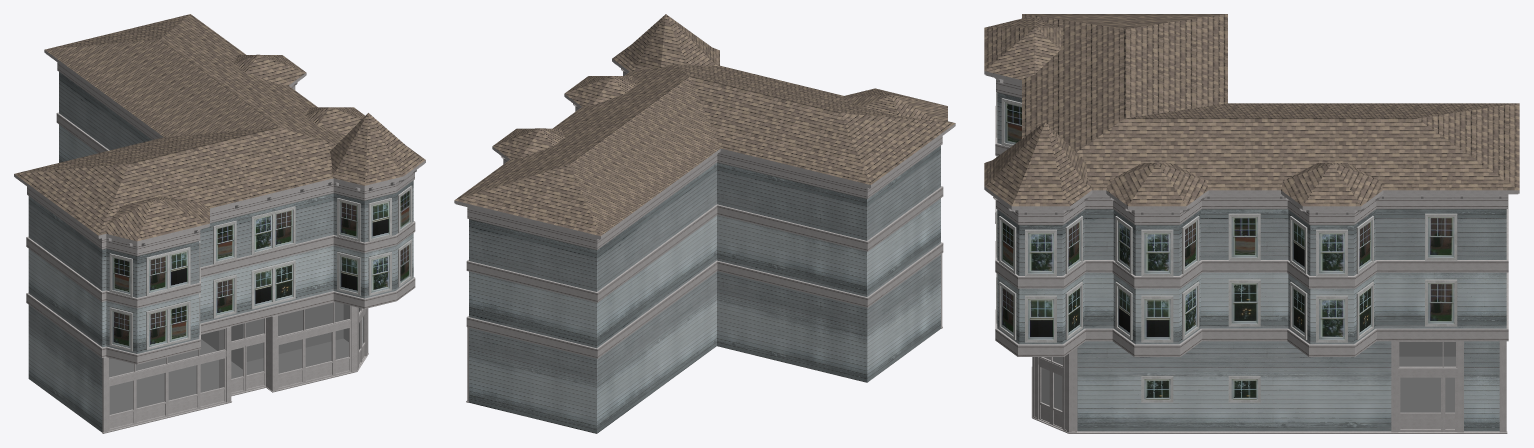
The model's file is Building 1.FBX.
3 renders of one model, left to right at view 1: azimuth 30°, elevation 25°; view 2: azimuth 150°, elevation 25°; view 3: azimuth 270°, elevation 25°, orthographic. The views are drawn at different scales.
Parts seen in each view (by area): view 1: B1-Roof, B1-SideWalls, B1-Wood_Frames, B1-H_Frames, B1-Windows, B2 - Window Glass, B1-DefaultWalls, B1-WindowFrame; view 2: B1-SideWalls, B1-Roof, B1-H_Frames, B1-Wood_Frames; view 3: B1-Roof, B1-SideWalls, B1-H_Frames, B1-Windows, B1-Wood_Frames, B1-WindowFrame, B1-DefaultWalls, B2 - Window Glass.
Part boxes in pixels (bbox=[...]): B1-Roof: bbox=[14, 14, 425, 241]; B1-SideWalls: bbox=[28, 72, 413, 432]; B1-Wood_Frames: bbox=[14, 50, 425, 433]; B1-H_Frames: bbox=[26, 62, 415, 364]; B1-Windows: bbox=[112, 189, 410, 348]; B2 - Window Glass: bbox=[109, 302, 363, 414]; B1-DefaultWalls: bbox=[109, 302, 360, 414]; B1-WindowFrame: bbox=[109, 185, 412, 351]; B1-SideWalls: bbox=[469, 145, 940, 433]; B1-Roof: bbox=[454, 14, 955, 236]; B1-H_Frames: bbox=[466, 71, 943, 358]; B1-Wood_Frames: bbox=[454, 59, 955, 402]; B1-Roof: bbox=[984, 14, 1519, 206]; B1-SideWalls: bbox=[997, 92, 1506, 431]; B1-H_Frames: bbox=[995, 78, 1508, 356]; B1-Windows: bbox=[1001, 102, 1454, 399]; B1-Wood_Frames: bbox=[984, 71, 1519, 433]; B1-WindowFrame: bbox=[996, 92, 1457, 402]; B1-DefaultWalls: bbox=[1041, 342, 1455, 431]; B2 - Window Glass: bbox=[1041, 342, 1455, 412].
Size of the model in its own units: 15.62 by 18.4 by 11.61.
8 materials, 6 textured.
